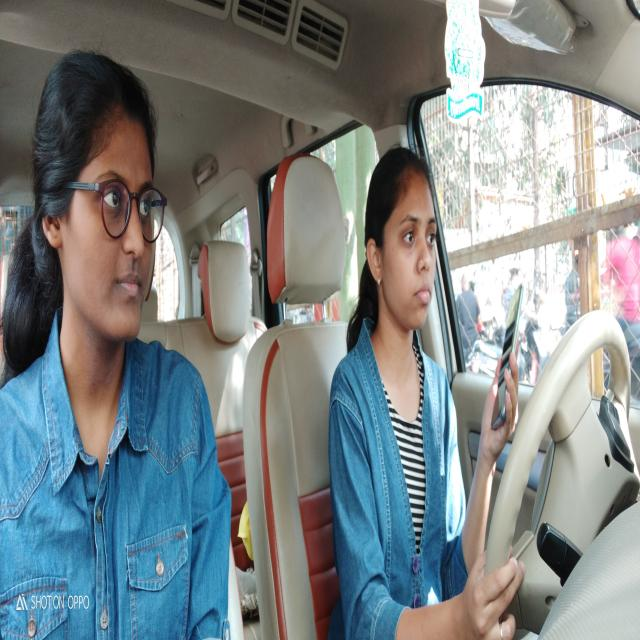mobile: (487, 280, 525, 437)
person: (36, 39, 170, 349), (364, 142, 446, 344)
